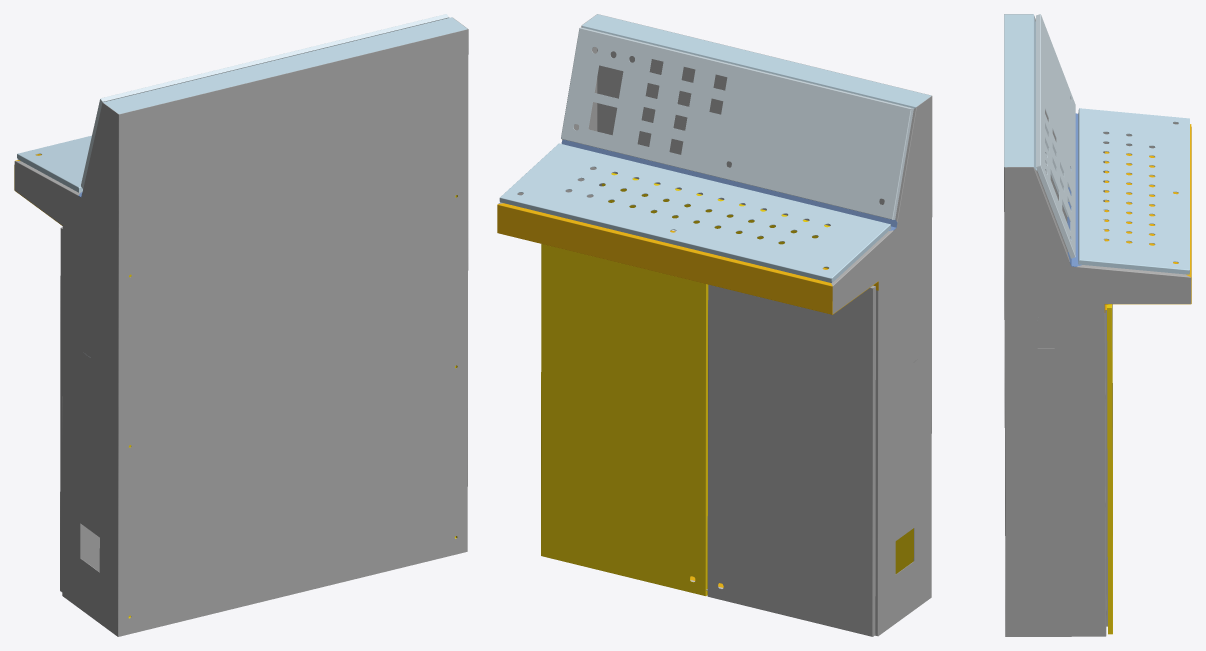
Rendered from controlPannel.fbx.
3 renders of one model, left to right at view 1: azimuth 30°, elevation 25°; view 2: azimuth 150°, elevation 25°; view 3: azimuth 270°, elevation 25°, orthographic. The views are drawn at different scales.
Visible parts, largest first — view 1: mesh0.002; view 2: mesh0.002; view 3: mesh0.002.
Part boxes in pixels (box(x1,y1,x2,y2)): mesh0.002: box(14, 14, 468, 636); mesh0.002: box(497, 14, 932, 636); mesh0.002: box(1004, 14, 1191, 636).
Bounding box in the file's own units: 130 × 180 × 74.04.
